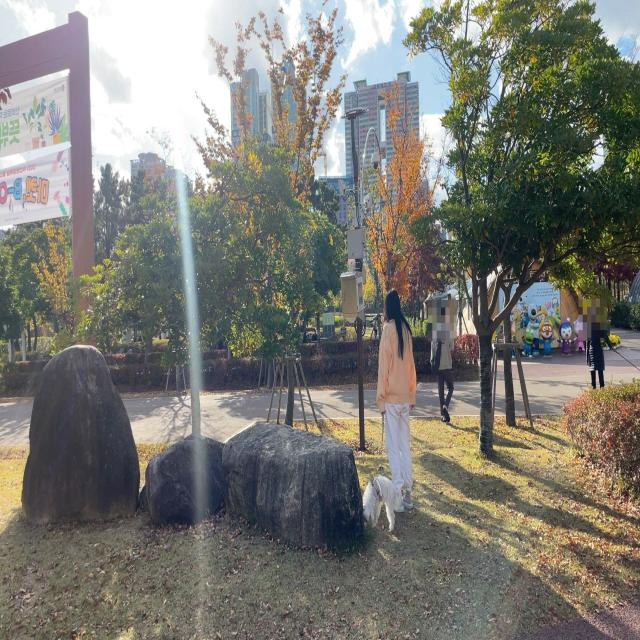Leashed_Dog: (362, 398, 402, 532)
